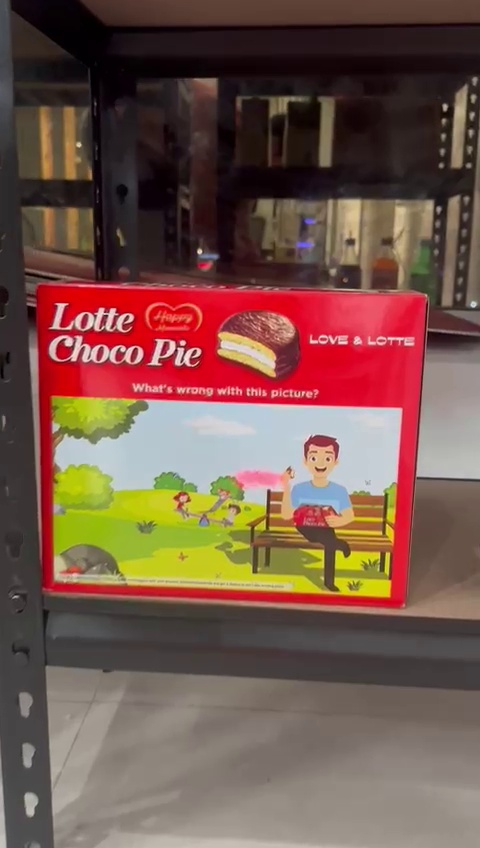Lotte Chocopie: (32, 284, 410, 603)
